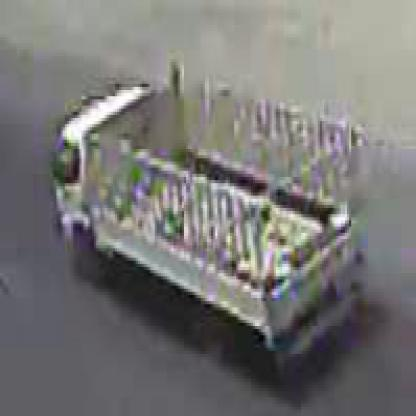truck: (58, 76, 355, 358)
